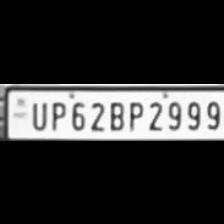2: (144, 97, 162, 131), (86, 97, 104, 130)
6: (66, 97, 86, 131)
9: (202, 96, 222, 130), (164, 97, 182, 131), (183, 96, 201, 130)
B: (106, 97, 126, 130)
P: (46, 97, 66, 130), (125, 97, 143, 131)
U: (27, 98, 47, 130)
